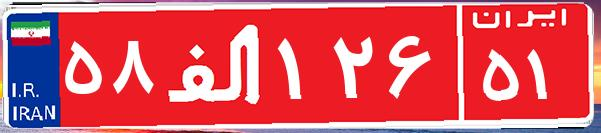1: (273, 28, 330, 110), (525, 38, 570, 115)
2: (330, 28, 385, 110)
5: (57, 26, 110, 107), (475, 38, 525, 113)
6: (385, 28, 445, 110)
8: (110, 28, 158, 105)
الف: (158, 15, 273, 115)
